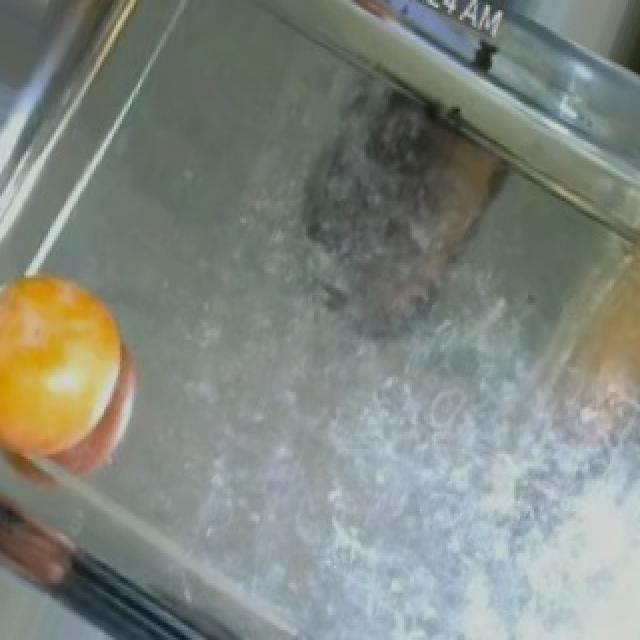Fruit: (0, 253, 148, 496), (0, 496, 90, 603)
